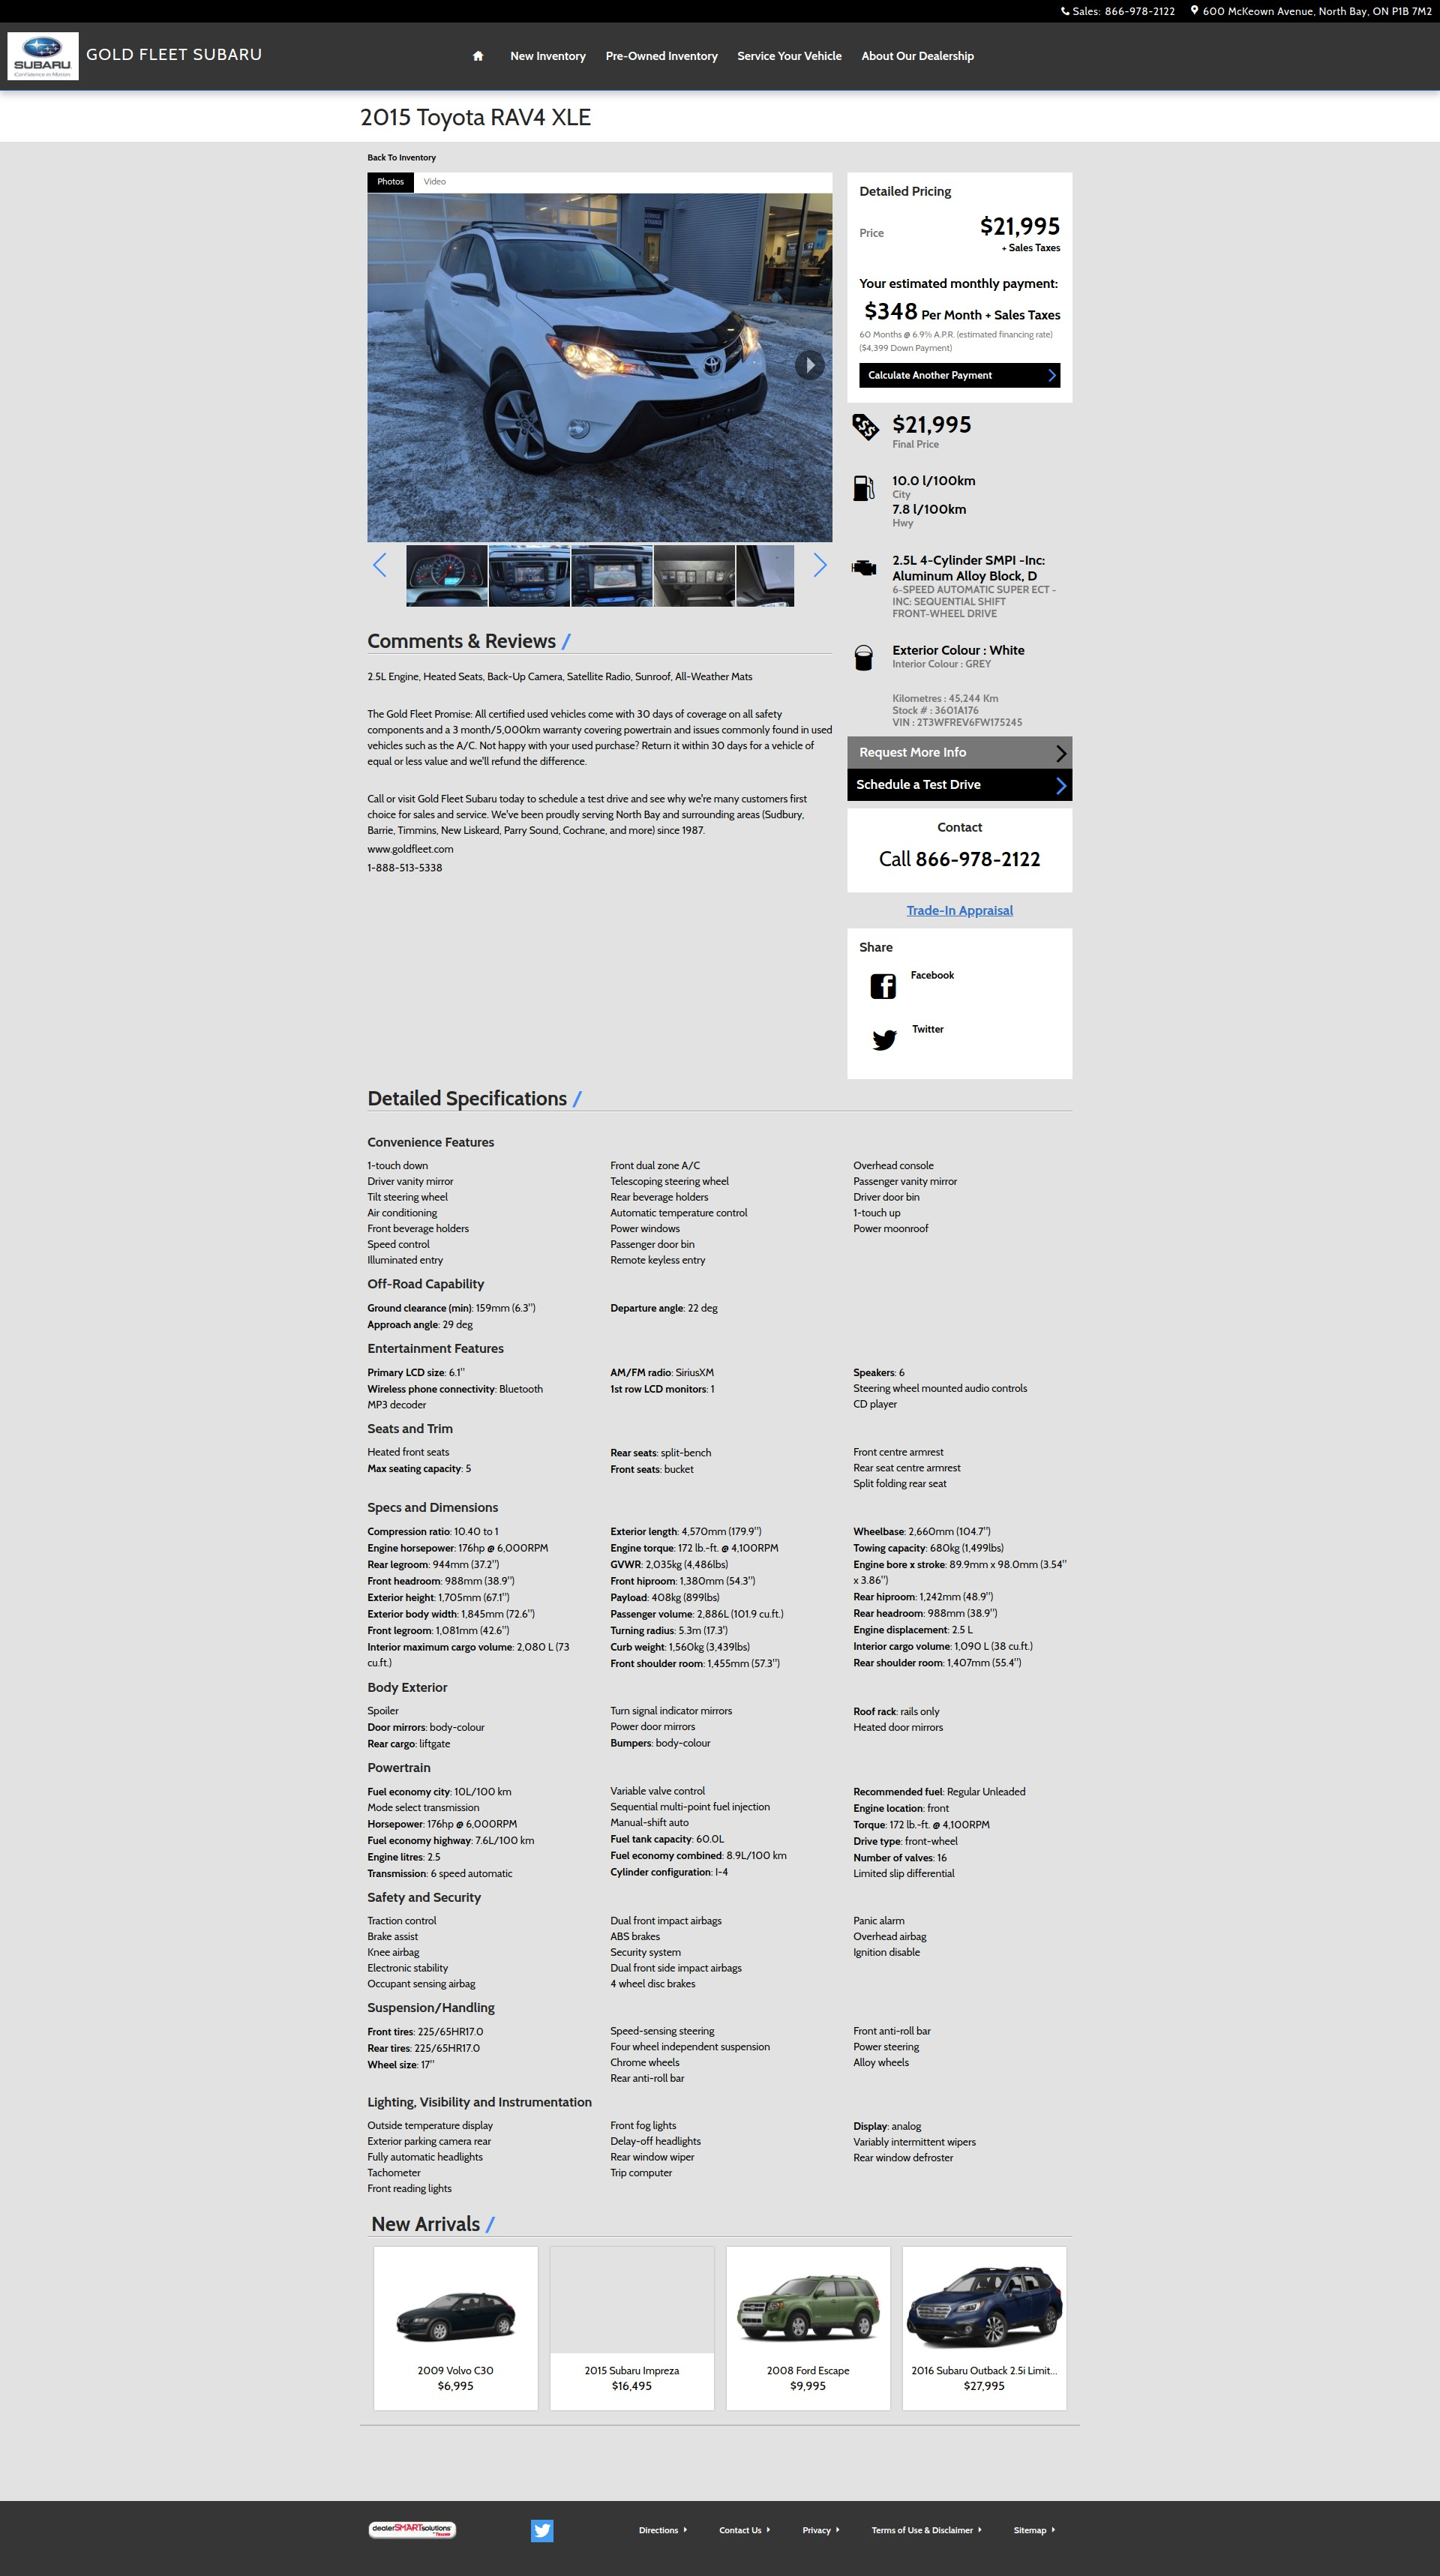car: (814, 552, 828, 579)
